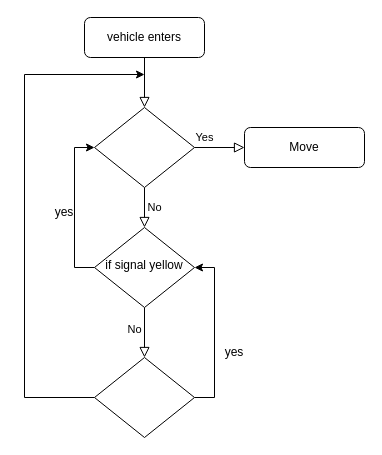
Some shapes in this 382 by 455 pixel diagram are drawn without their labels. Each missing label, with the centre of its shape:
if signal Green: the point at 144,147
if signal red: the point at 144,397
